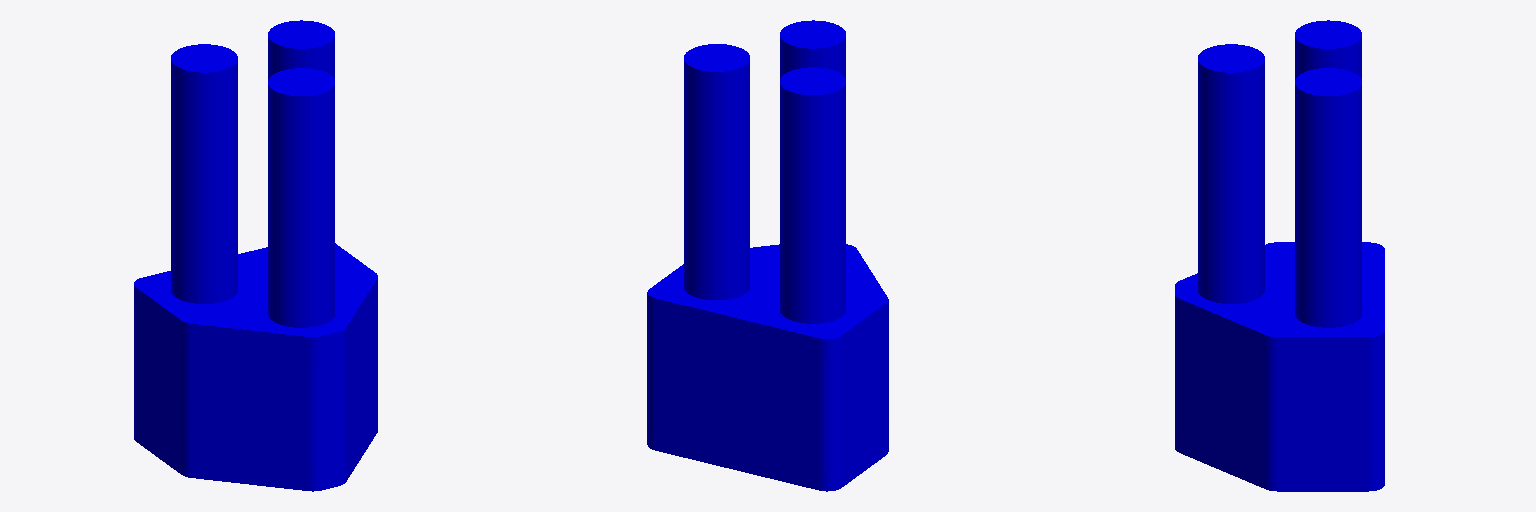
robot.urdf — board2_block1:
<?xml version="1.0"?>
<robot name="board2_block1">
    <link name="board2_block1">
        <visual>
            <origin xyz="0 0 0 " rpy=" 0 0 0"/>
            <geometry>
                <mesh filename="../meshes/SIMO_Board2_Block1.stl" scale="0.001 0.001 0.001"/>
            </geometry>
            <material name="red">
                <color rgba="0.0 0.0 1.0 1.0"/>
            </material>
        </visual>
        <collision>
            <origin xyz="0 0 0" rpy="0 0 0"/>
            <geometry>
                <mesh filename="../meshes/SIMO_Board2_Block1.stl" scale="0.001 0.001 0.001"/>
            </geometry>
        </collision>
    </link>
</robot>

--- Render facts (derived) ---
The picture shows the robot from 3 angles, left to right: view 1: azimuth 30°, elevation 25°; view 2: azimuth 150°, elevation 25°; view 3: azimuth 270°, elevation 25°; orthographic projection.
Robot: board2_block1 — 1 links, 0 joints (none); root link board2_block1; default pose: every joint at zero.
Visible links, largest first — view 1: board2_block1; view 2: board2_block1; view 3: board2_block1.
Link boxes in pixels (x1,y1,x2,y2): board2_block1: [134, 20, 377, 491]; board2_block1: [647, 20, 888, 491]; board2_block1: [1175, 20, 1384, 491].
Size in the robot's own frame: 0.0528 by 0.0493 by 0.1 metres.
Meshes: 1 distinct files referenced, 1 mesh visuals loaded (1 ASCII STL).
